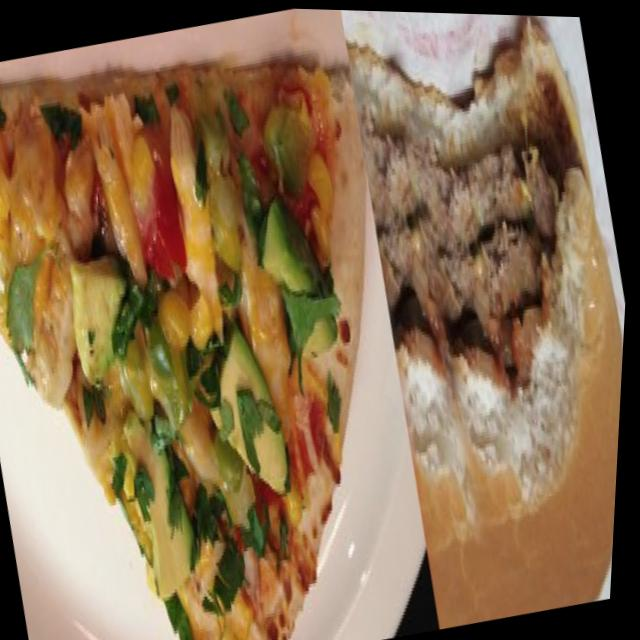burger: (318, 8, 640, 629)
pizza: (0, 1, 470, 640)
